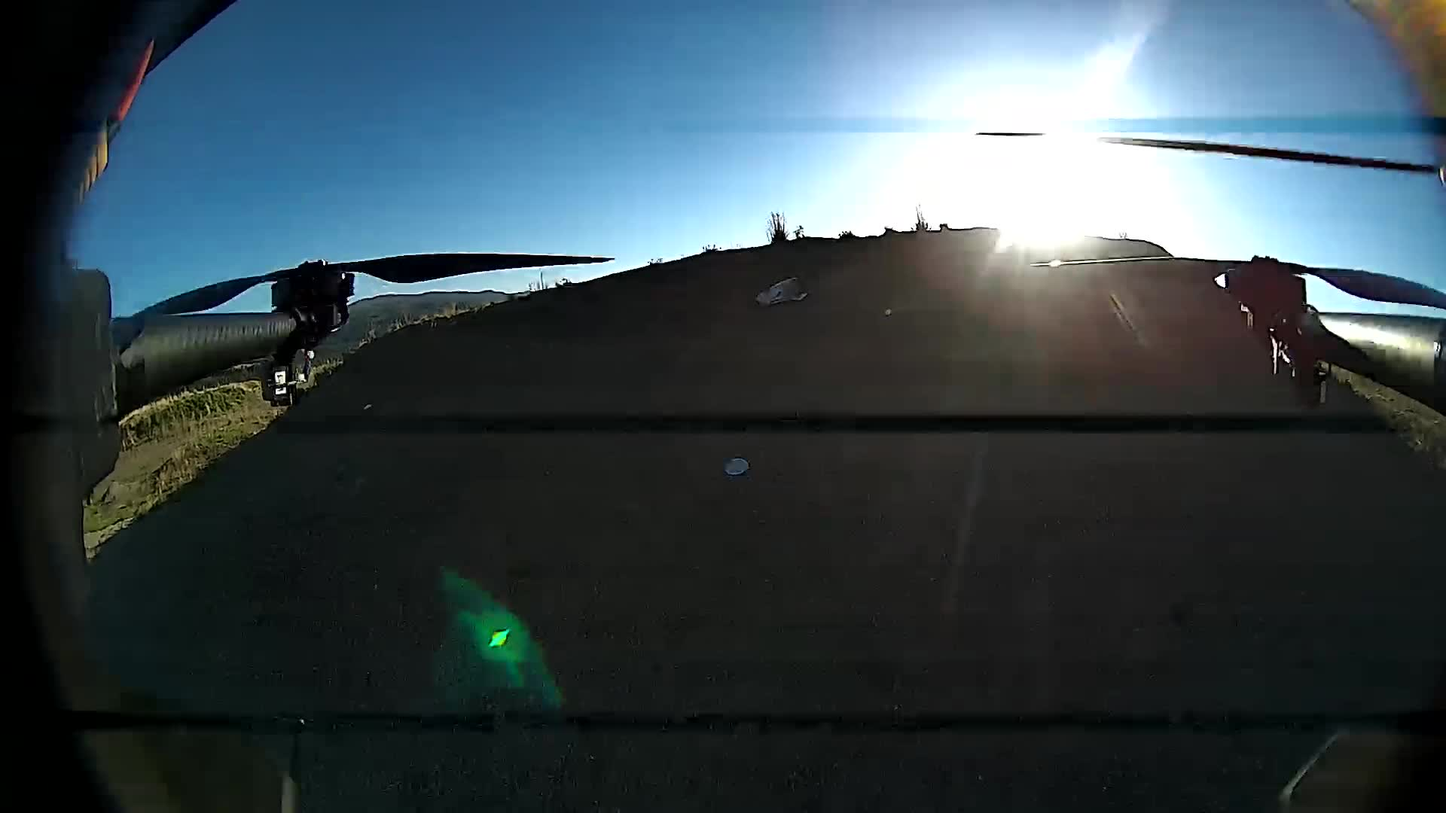Target: (724, 457, 748, 476)
